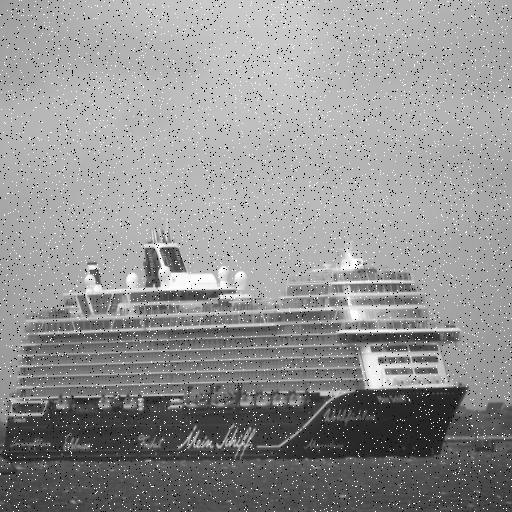cruises: (1, 224, 473, 469)
